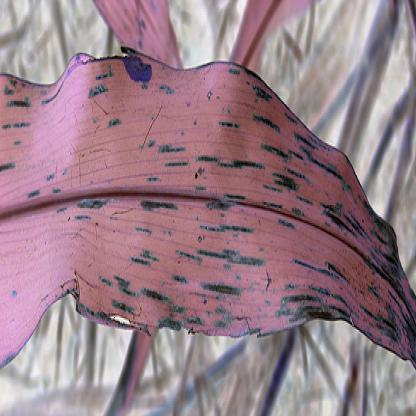Corn Gray leaf spot: (0, 53, 416, 406)
